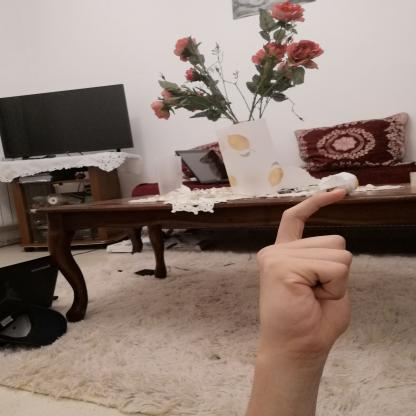RAA: (245, 181, 368, 365)
